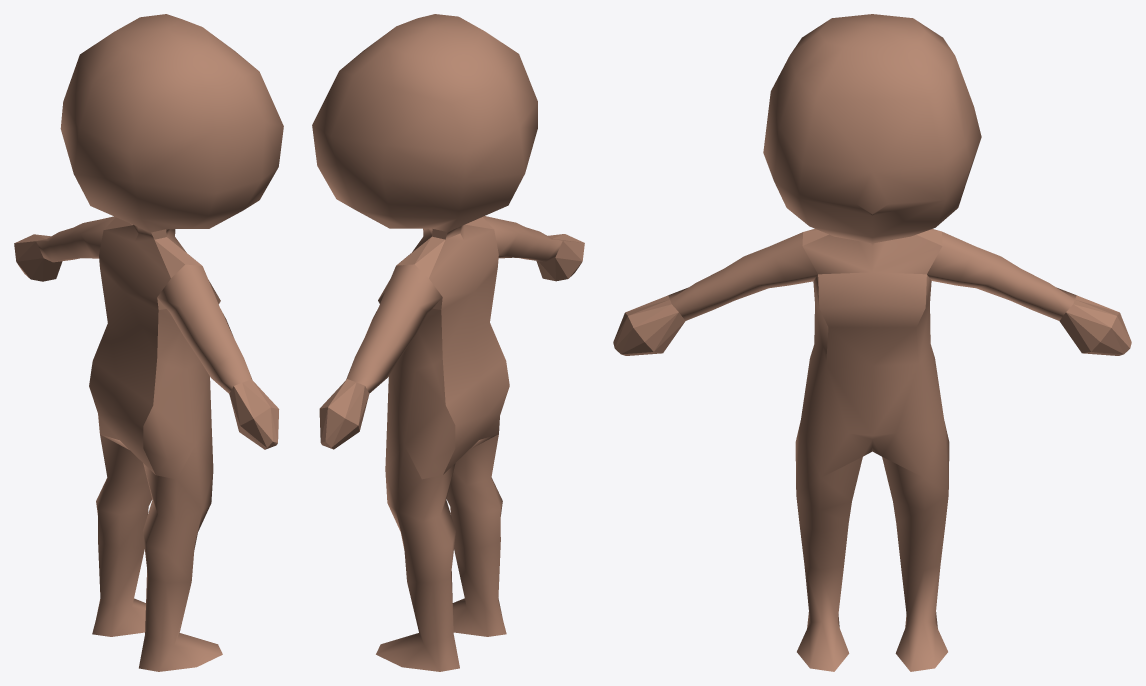
The model's file is CharacterJamTest.FBX.
3 renders of one model, left to right at view 1: azimuth 30°, elevation 25°; view 2: azimuth 150°, elevation 25°; view 3: azimuth 270°, elevation 25°, orthographic. The views are drawn at different scales.
Parts seen in each view (by area): view 1: corps; view 2: corps; view 3: corps.
Boxes of the visible parts, x1,y1,x2,y2 form: corps: (14, 14, 283, 671); corps: (312, 14, 584, 671); corps: (613, 14, 1131, 671).
Size of the model in its own units: 0.027 by 0.0802 by 0.0598.
